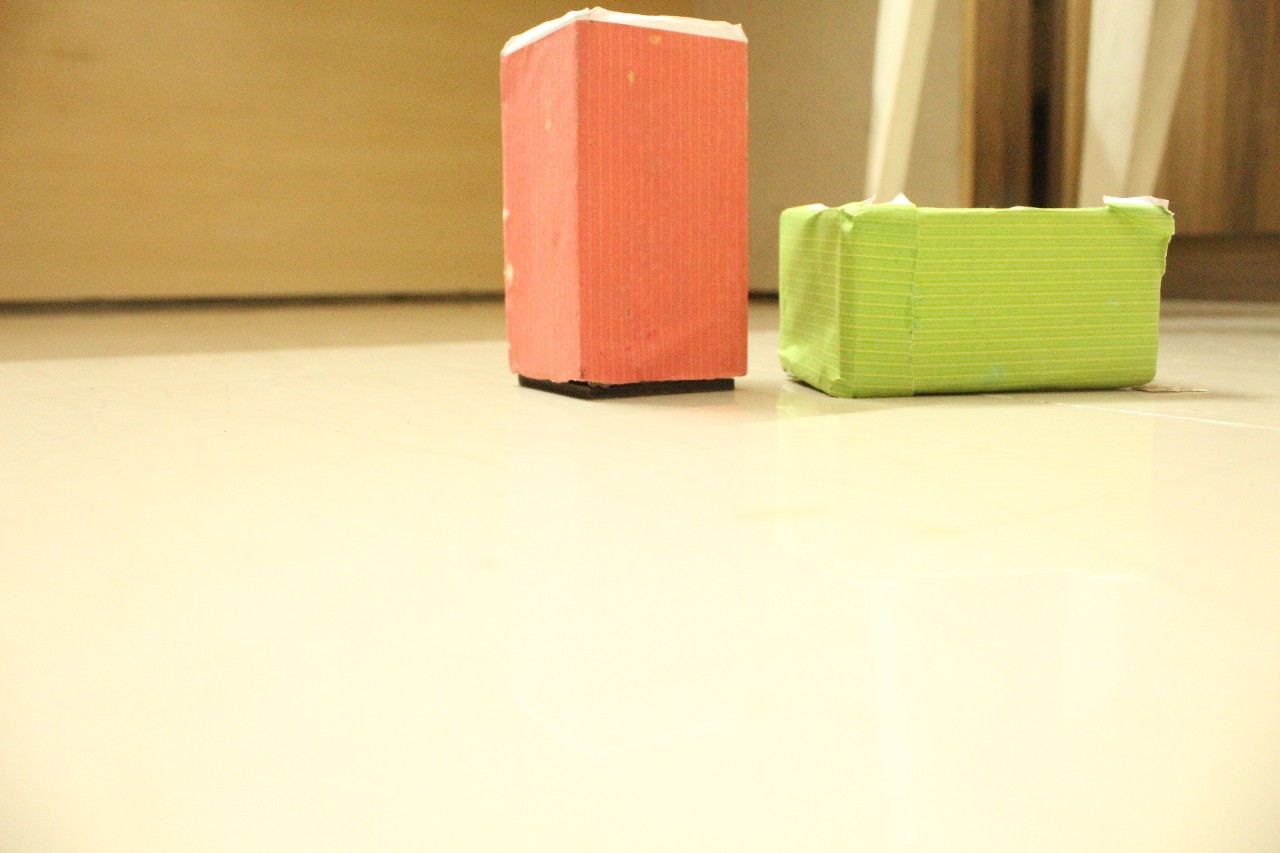green: (758, 193, 1194, 409)
red: (486, 2, 772, 417), (966, 0, 1069, 219)
